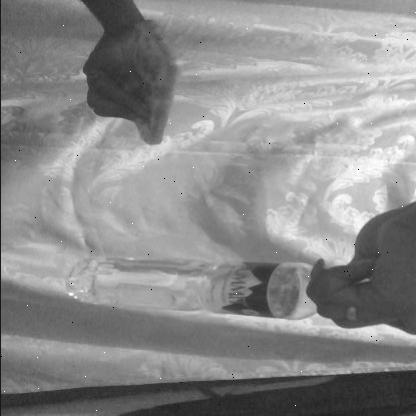Plastic Bottle: (62, 235, 403, 345)
